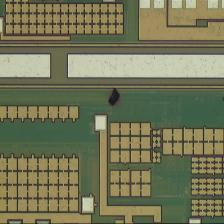PARTICLE: (108, 88, 122, 108)
